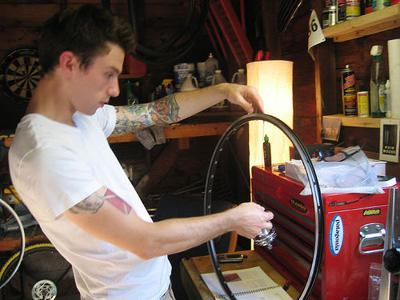person: (4, 10, 278, 300)
